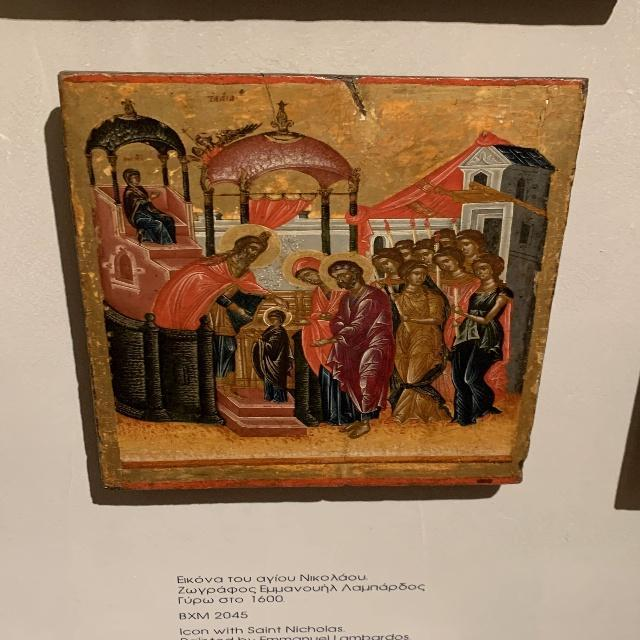angel: (171, 116, 260, 169)
aura: (221, 224, 277, 267), (319, 252, 376, 292), (282, 249, 328, 287), (262, 304, 292, 326)
christ_kid: (245, 301, 297, 402)
mary: (286, 253, 343, 410)
saint: (328, 255, 394, 435)
st_nicholas: (142, 227, 282, 326)
